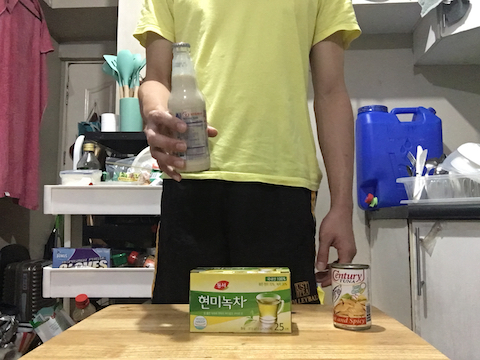bottle: (166, 38, 214, 178)
box: (186, 263, 297, 335)
can: (330, 260, 373, 334)
grab: (144, 106, 193, 184)
